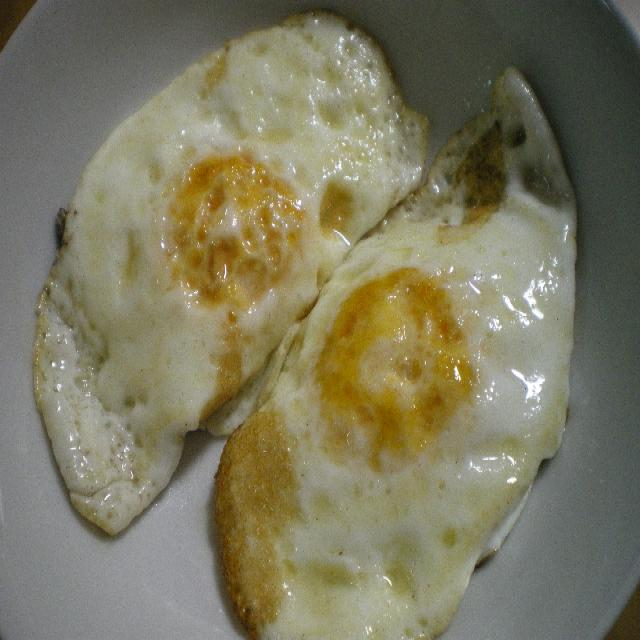鸡蛋料理: (22, 0, 592, 637)
